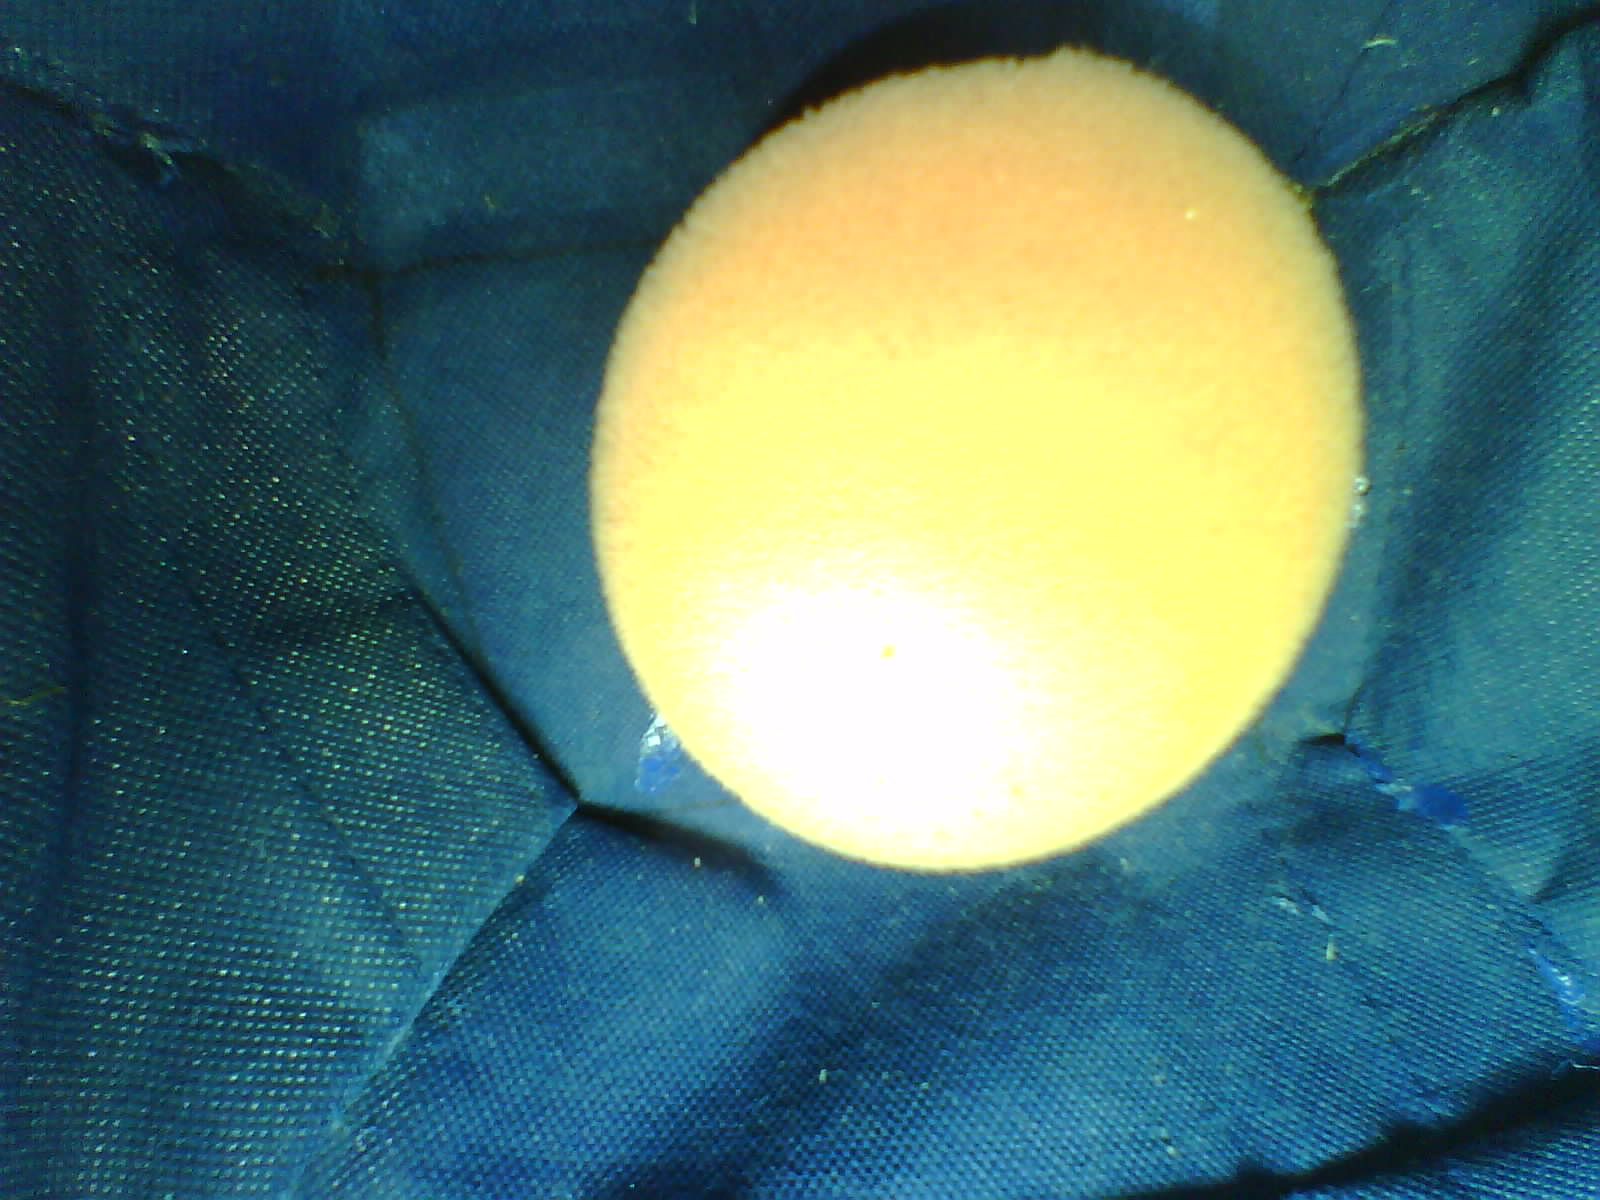cylinder-soft: (577, 40, 1382, 887)
